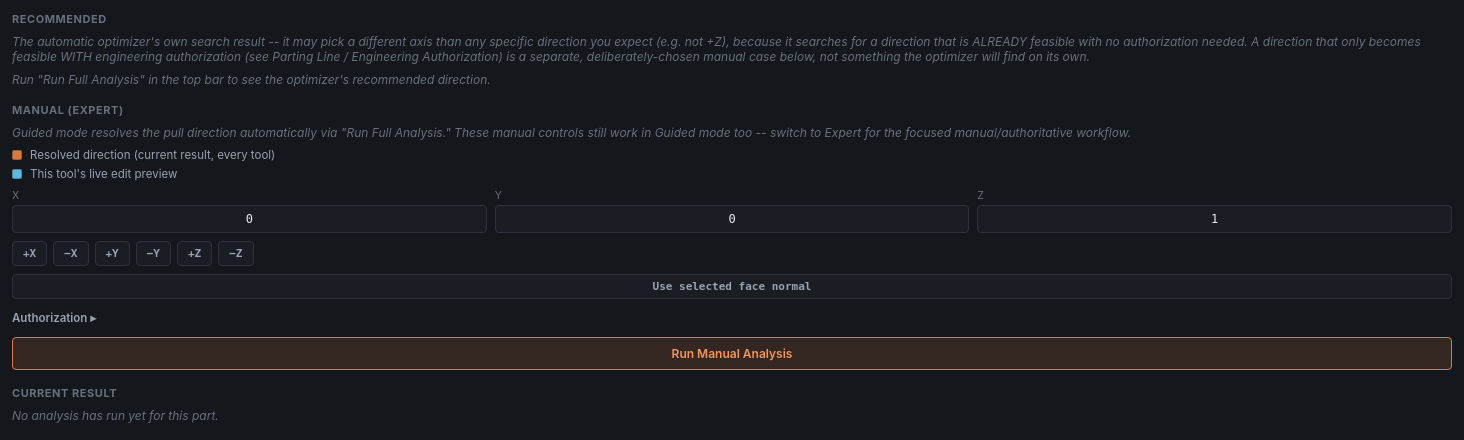
Test case: PullDirectionPanel › "use selected face normal" fills the vector from the picked face, only when exactly one face is selected
The width and height of the screenshot is (1464, 440).
Click the button "Use selected face normal" at (732, 286), box [12,274,1452,299]
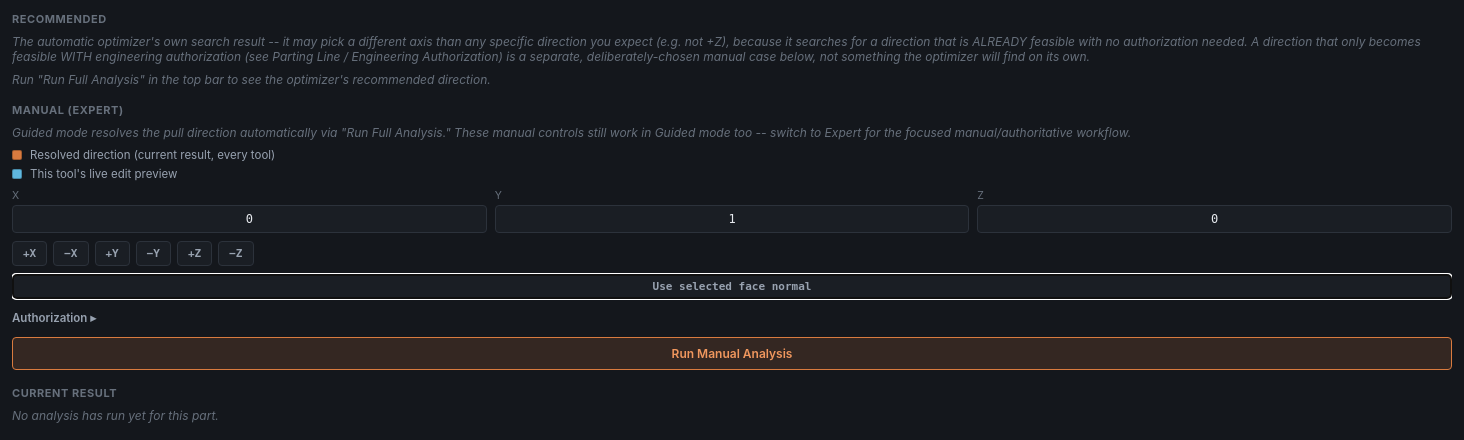
Expected: the field named "Manual pull direction Y component" holds "1", [495,205,969,233]
